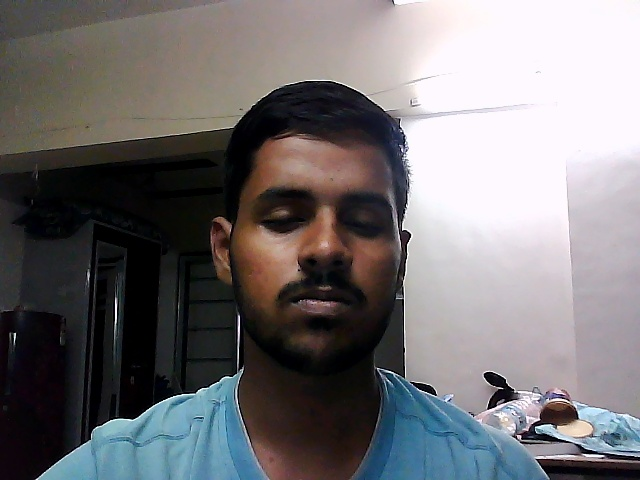drowsy: (191, 71, 432, 392)
